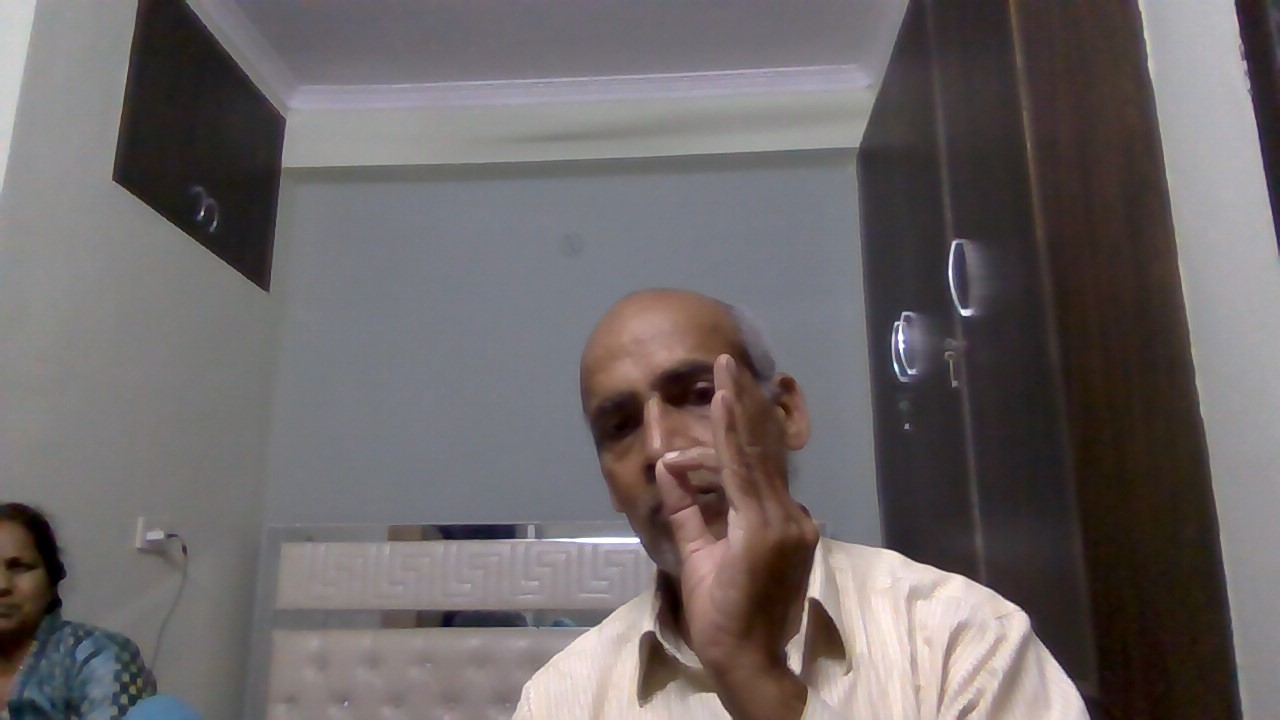Copy: (627, 346, 841, 684)
